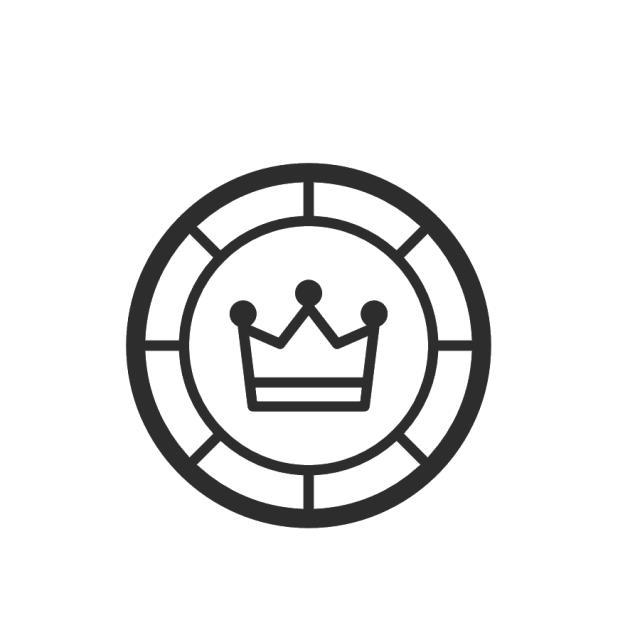coin: (119, 154, 500, 540)
